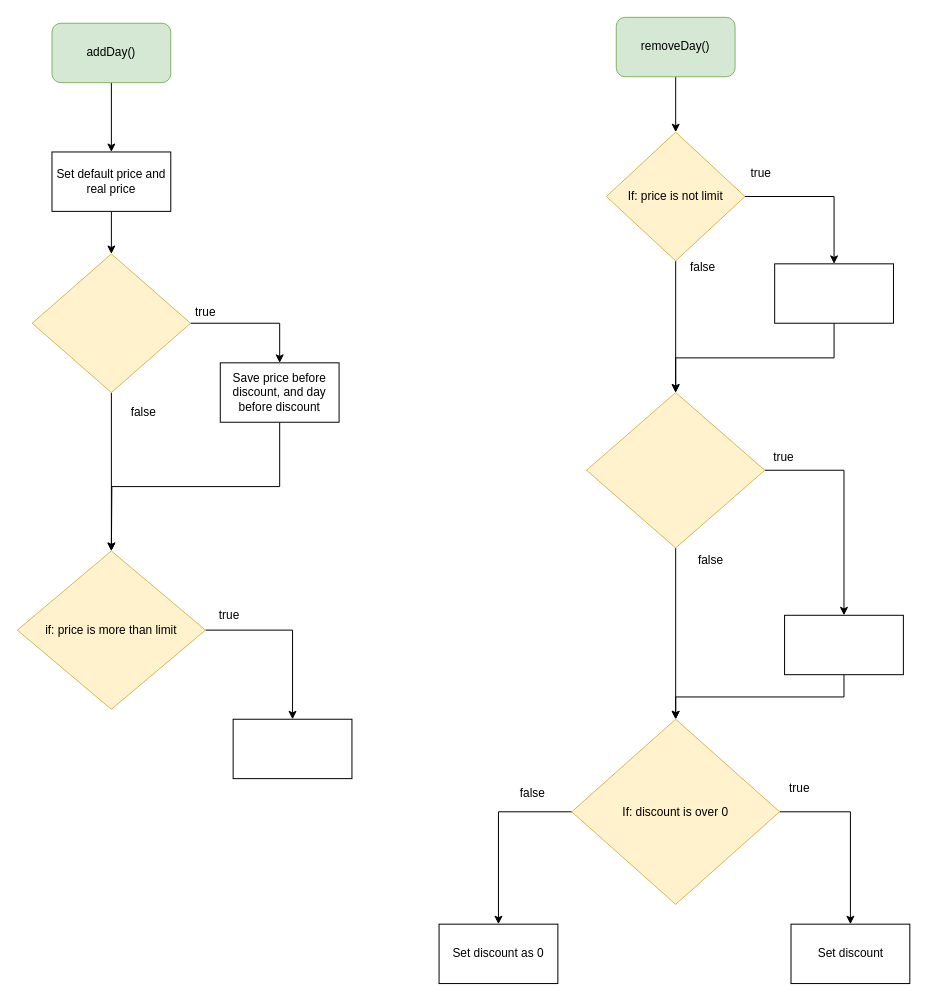
The diagram is 928 pixels wide and 1001 high, and some of its shapes have lost their labels. Each missing label, with the centre of its shape:
"display price be edge price" belongs at (843,644).
"If: current price + one more day is more than limit" belongs at (111,323).
"If: real price has gone over discount price" belongs at (675,470).
"Set display price as limit, and display discount" belongs at (292,748).
"Take away from price" belongs at (833,293).
